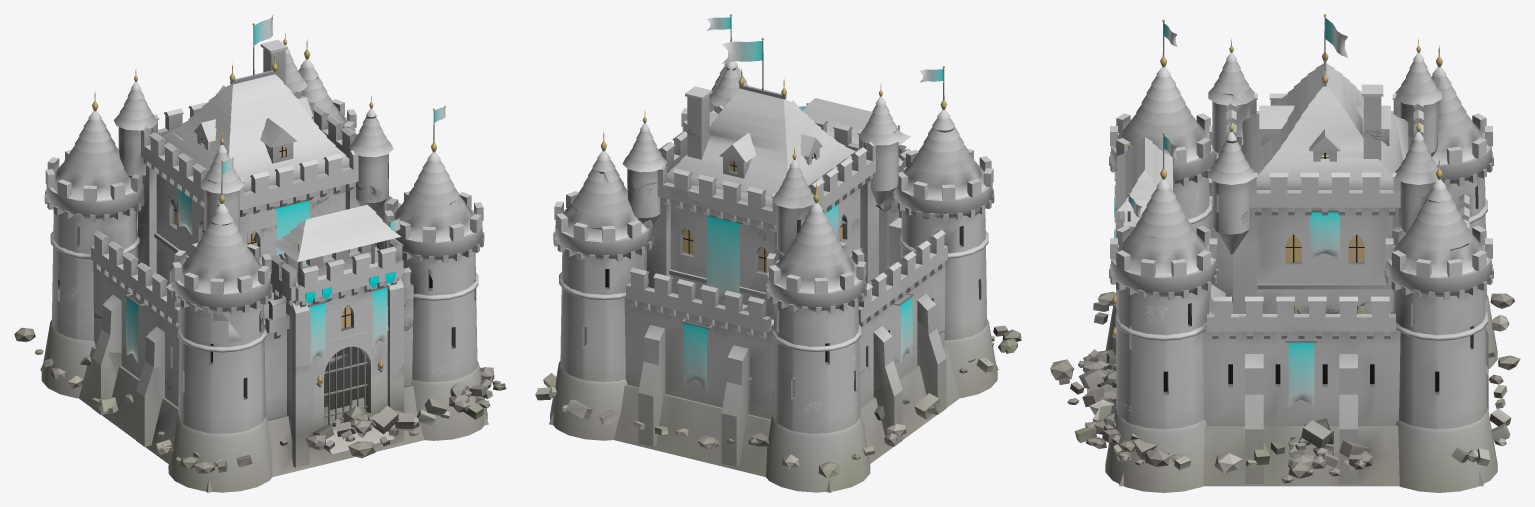
File: keep_kingdom.glb
3 renders of one model, left to right at view 1: azimuth 30°, elevation 25°; view 2: azimuth 150°, elevation 25°; view 3: azimuth 270°, elevation 25°, orthographic. The views are drawn at different scales.
Parts seen in each view (by area): view 1: stage0, stage3, stage2, stage1; view 2: stage0, stage1, stage2, stage3; view 3: stage0, stage2, stage1, stage3.
Part boxes in pixels (x1=…): stage0: x1=40, y1=14, x2=492, y2=492; stage3: x1=14, y1=122, x2=506, y2=469; stage2: x1=41, y1=76, x2=505, y2=473; stage1: x1=118, y1=81, x2=487, y2=472; stage0: x1=535, y1=14, x2=998, y2=492; stage1: x1=550, y1=67, x2=1013, y2=449; stage2: x1=543, y1=170, x2=1021, y2=491; stage3: x1=559, y1=205, x2=1017, y2=478; stage0: x1=1087, y1=14, x2=1511, y2=492; stage2: x1=1050, y1=177, x2=1498, y2=483; stage1: x1=1093, y1=87, x2=1520, y2=492; stage3: x1=1059, y1=243, x2=1514, y2=478.
Size of the model in its own units: 23.14 by 22.29 by 23.87.
